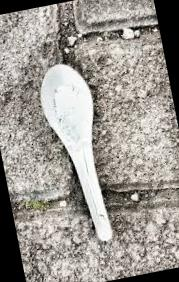Plastik: (40, 64, 111, 241)
